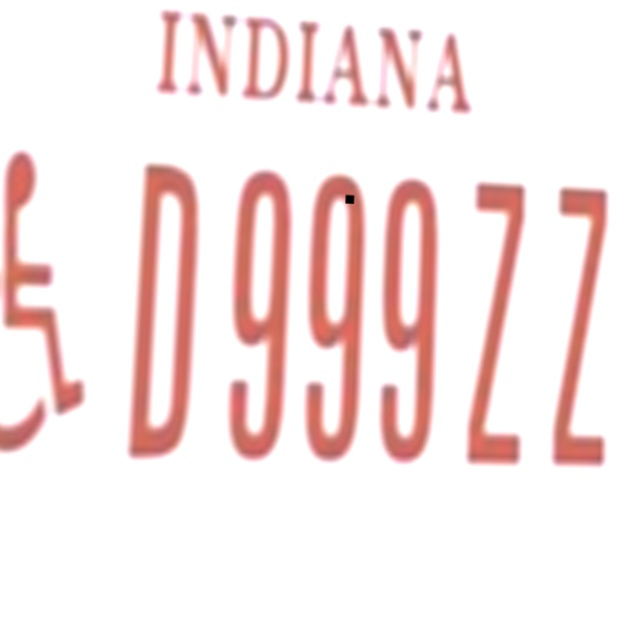ISA: (0, 142, 107, 469)
